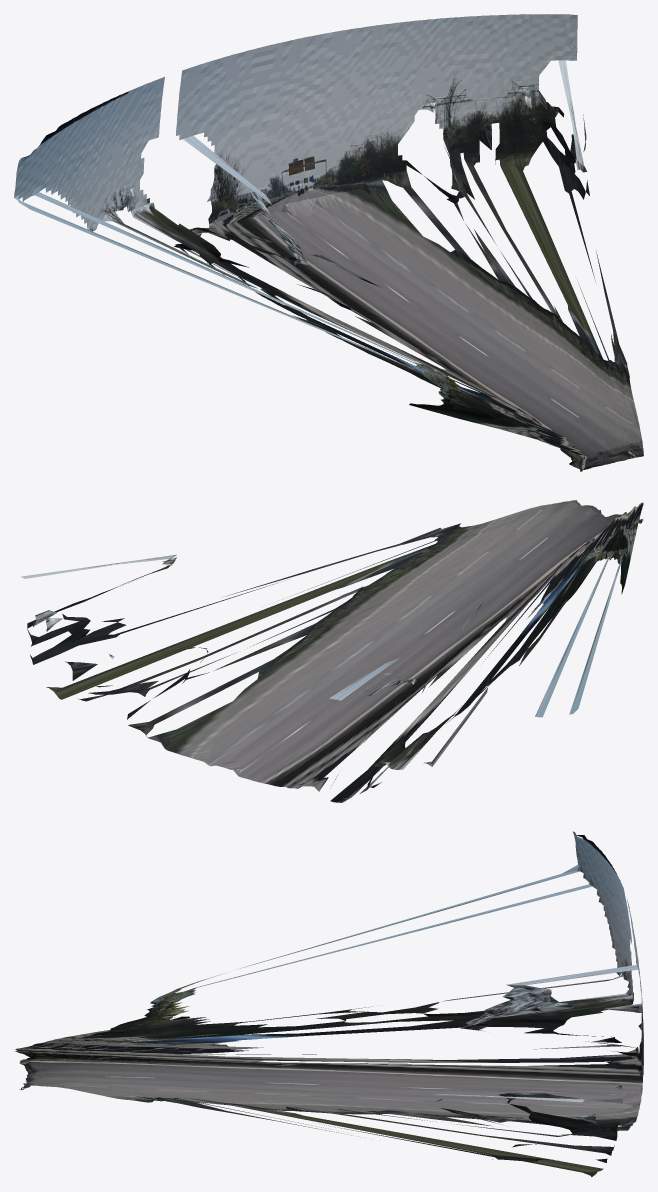
3 renders of one model, top to bottom at view 1: azimuth 30°, elevation 25°; view 2: azimuth 150°, elevation 25°; view 3: azimuth 270°, elevation 25°, orthographic. The views are drawn at different scales.
Visible parts, largest first — view 1: defaultobject; view 2: defaultobject; view 3: defaultobject.
Boxes of the visible parts, x1=… form: defaultobject: x1=14, y1=14, x2=643, y2=471; defaultobject: x1=21, y1=500, x2=643, y2=802; defaultobject: x1=14, y1=831, x2=643, y2=1177.
Size of the model in its own units: 40.94 by 12.53 by 45.04.
1 material, 1 textured.
